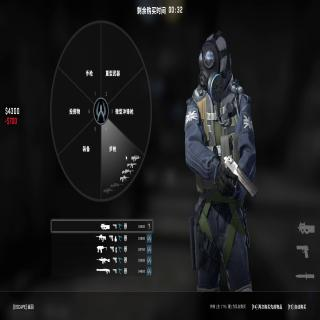CT-Body: (183, 31, 260, 292)
CT-Head: (198, 32, 230, 92)
